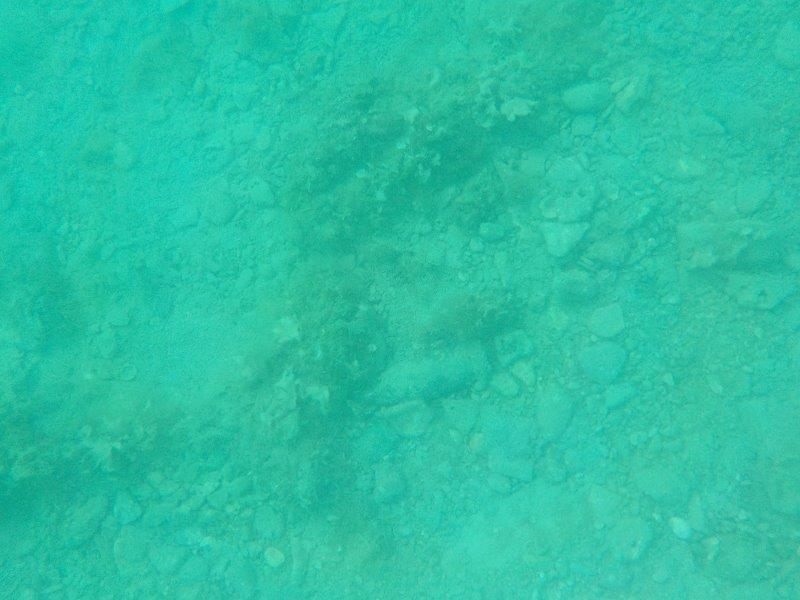bottle: (359, 337, 500, 411)
